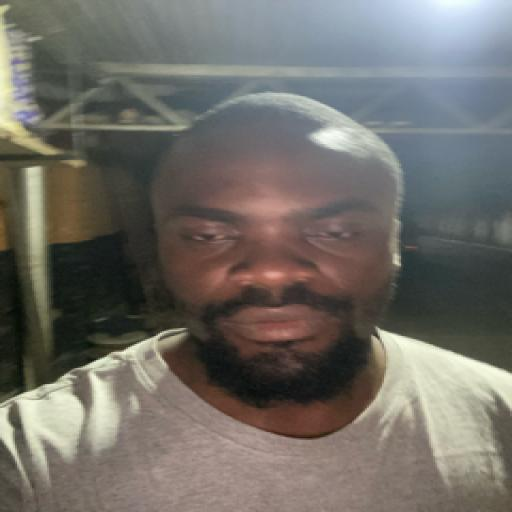JEANLUC: (160, 77, 412, 415)
